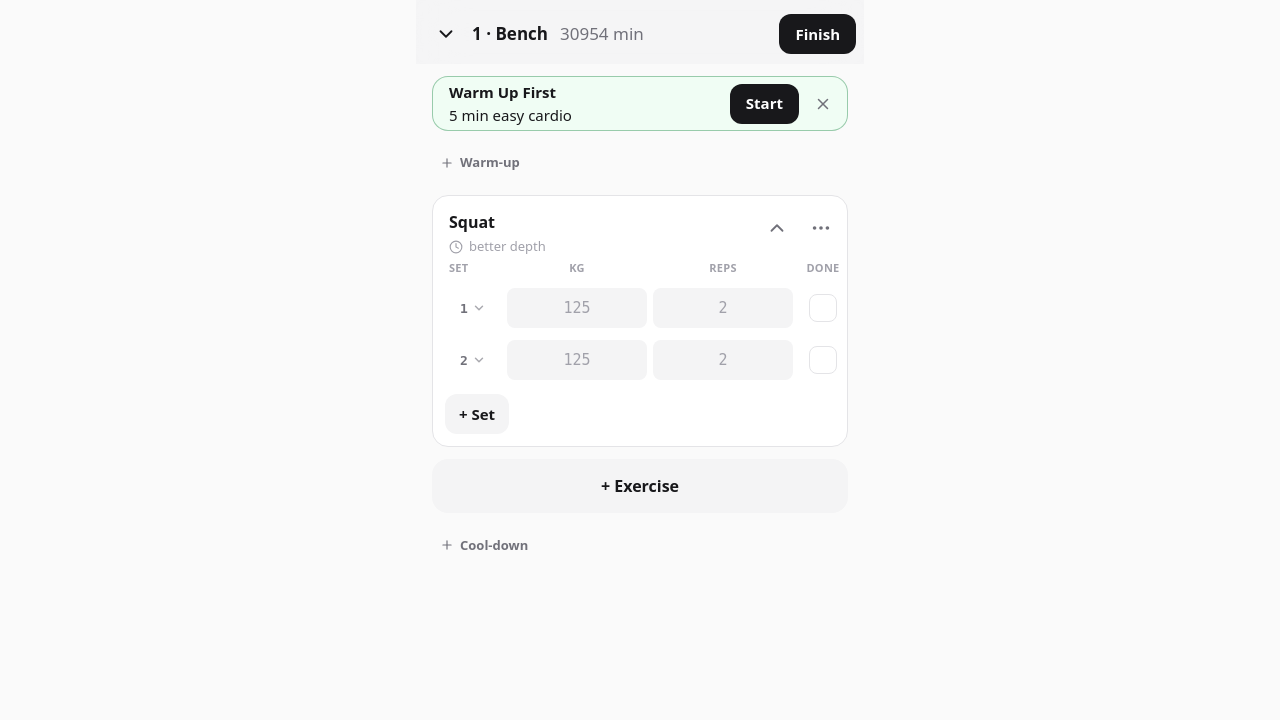
Test: Session › says so, and keeps the session, when the phone cannot store the finished session
The image size is (1280, 720).
Click the button named "Set 1 done". click: [823, 308]
box: [799, 284, 847, 332]
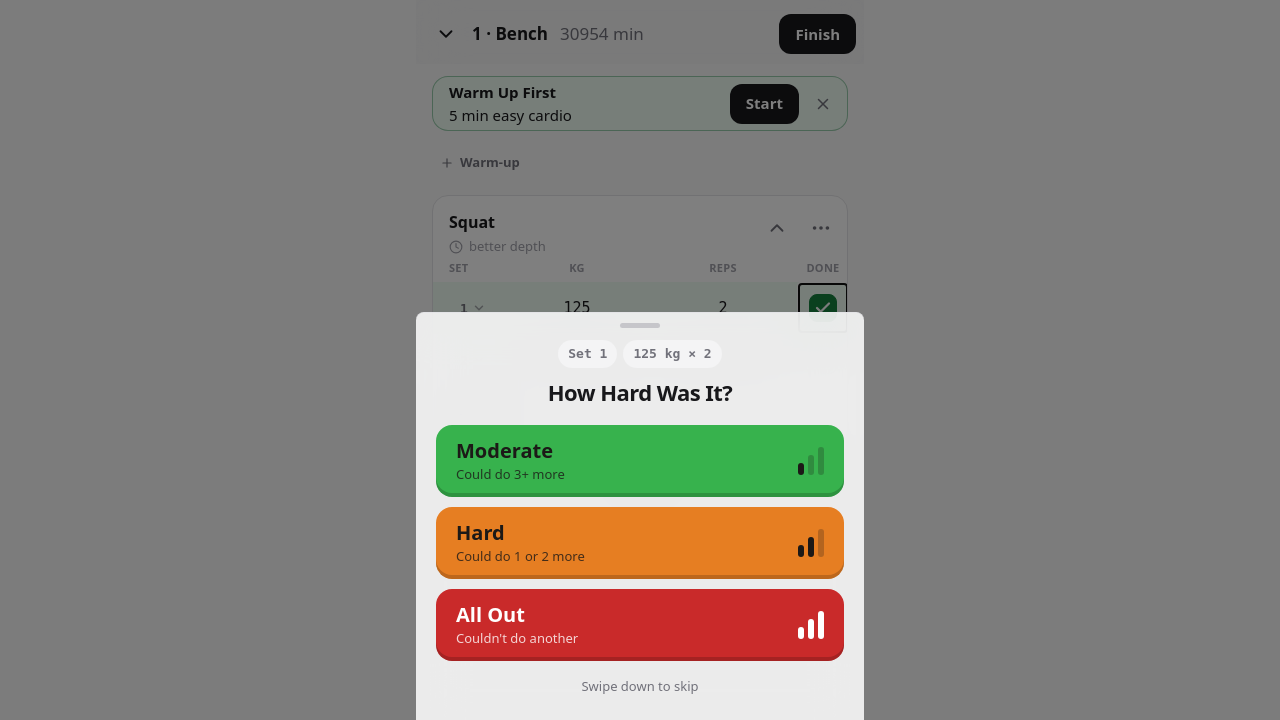
expect the dialog "How Hard Was It?" is shown: met, box [416, 312, 864, 719]
Press Escape
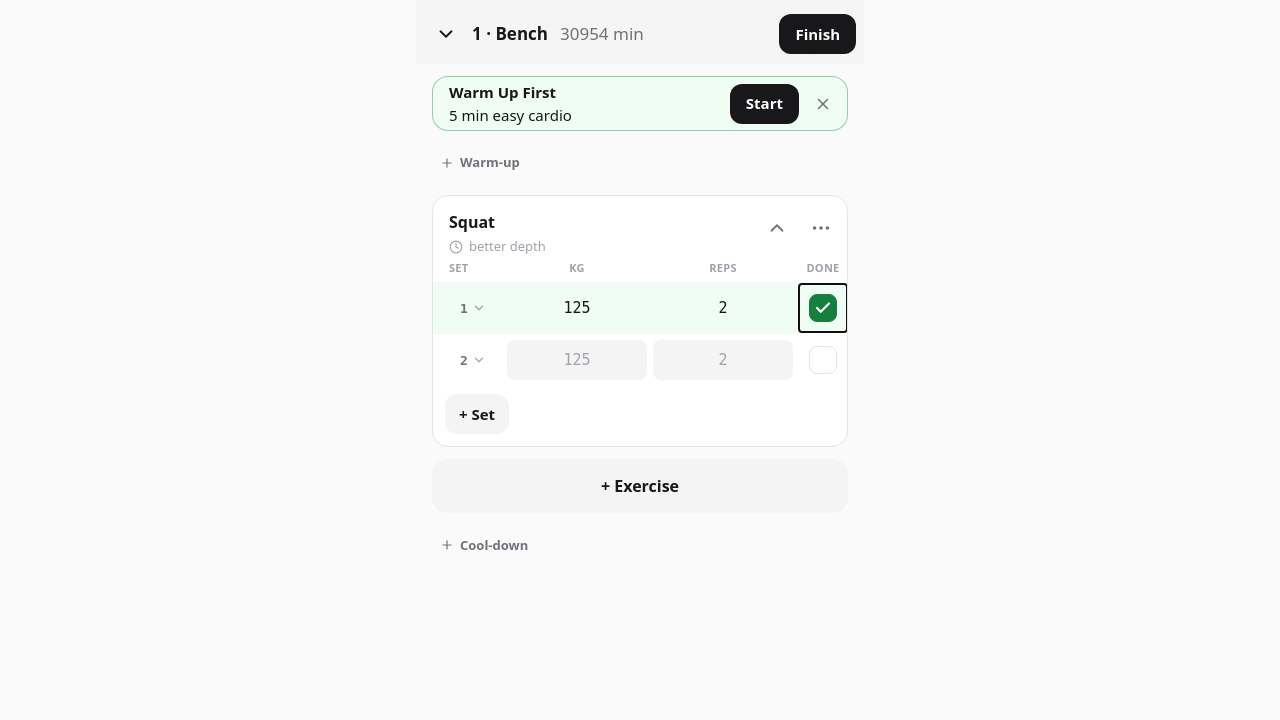
expect the text "How Hard Was It?" is gone: met
Click the button "Finish". click: [818, 34]
box: [779, 14, 856, 54]
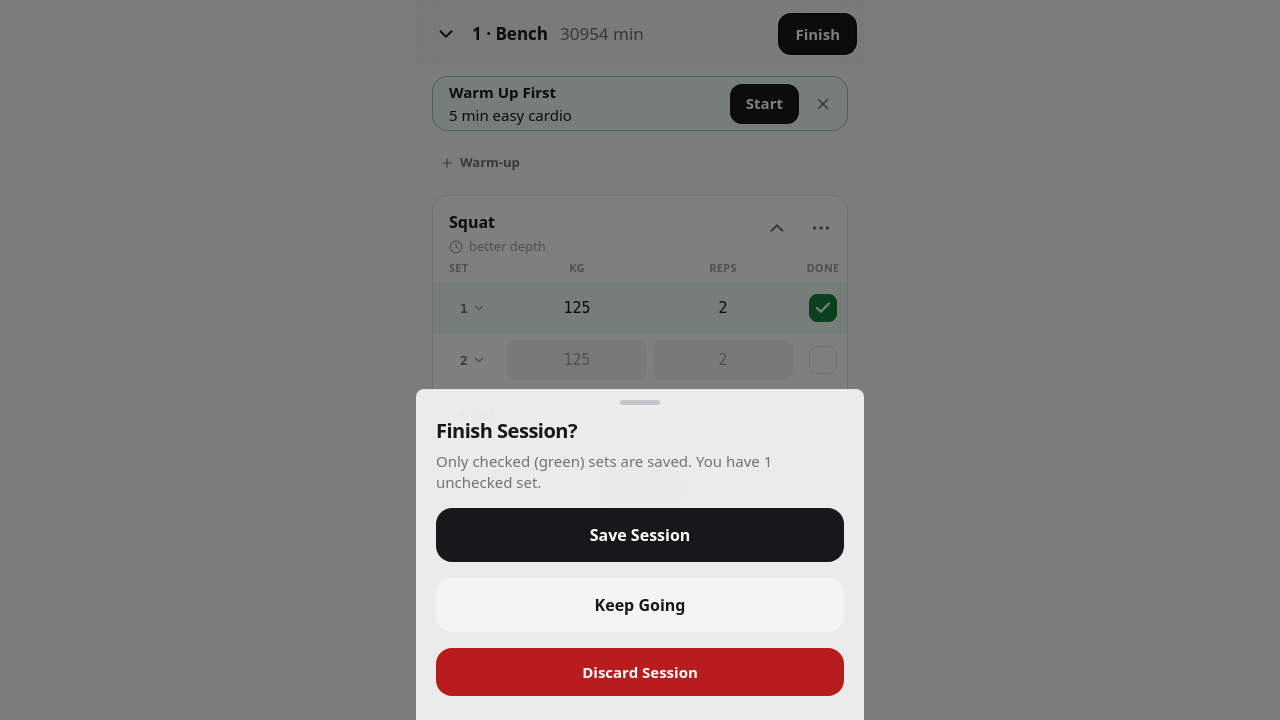
Click the button "Save Session". click: [640, 535]
box: [436, 508, 844, 562]
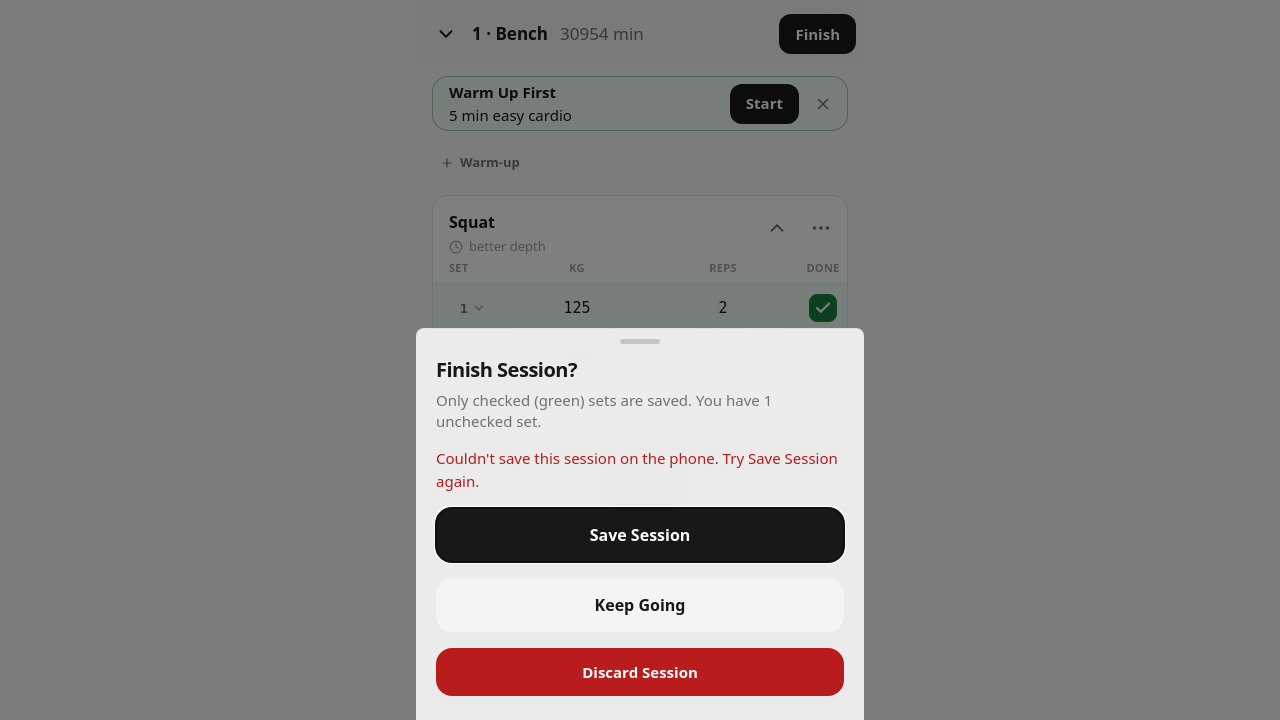
expect the message shows "Couldn't save this session on the phone.": met, box [436, 448, 838, 490]
